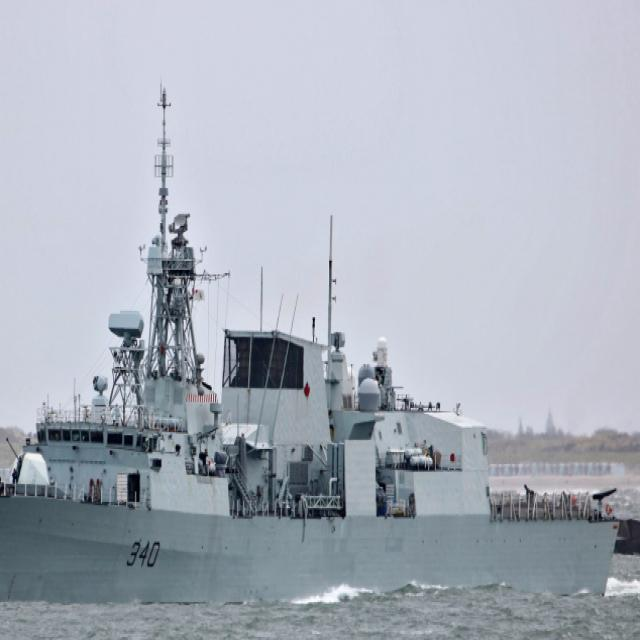Fragata: (1, 81, 621, 614)
